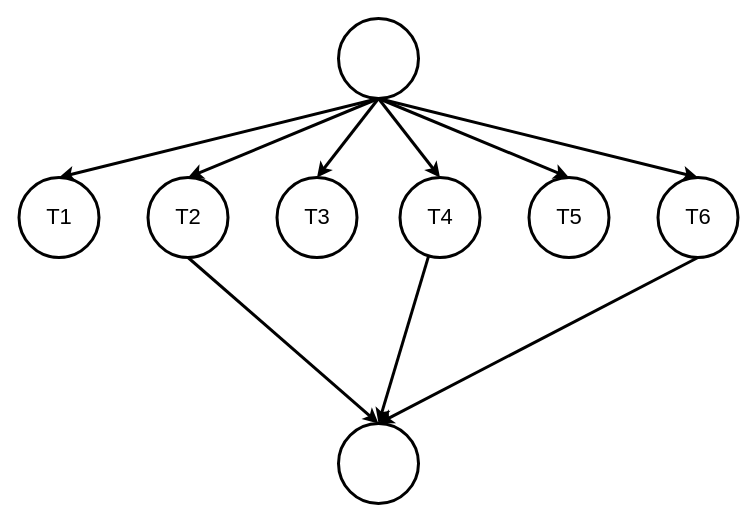
The diagram is 756 pixels wide and 522 high, and some of its shapes have lost their labels. The centre of each missing label's shape, as x and y in pixels:
"Fim" goes at pixel 378 463.
"Início" goes at pixel 378 58.
